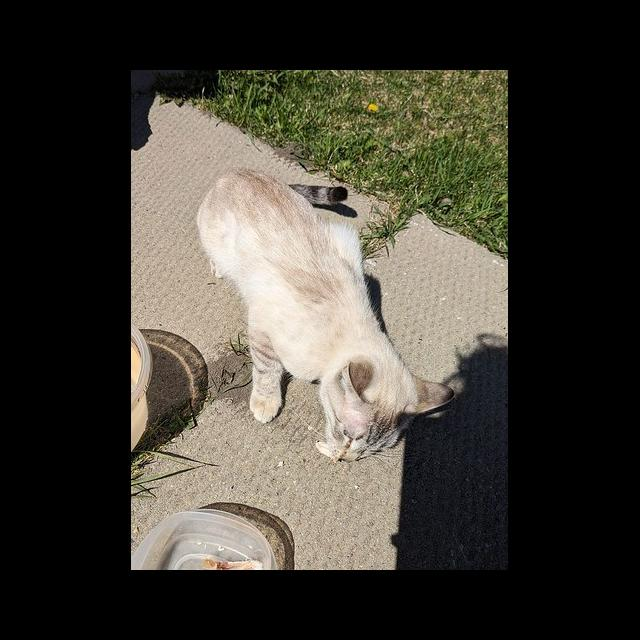animals: (196, 170, 454, 463)
